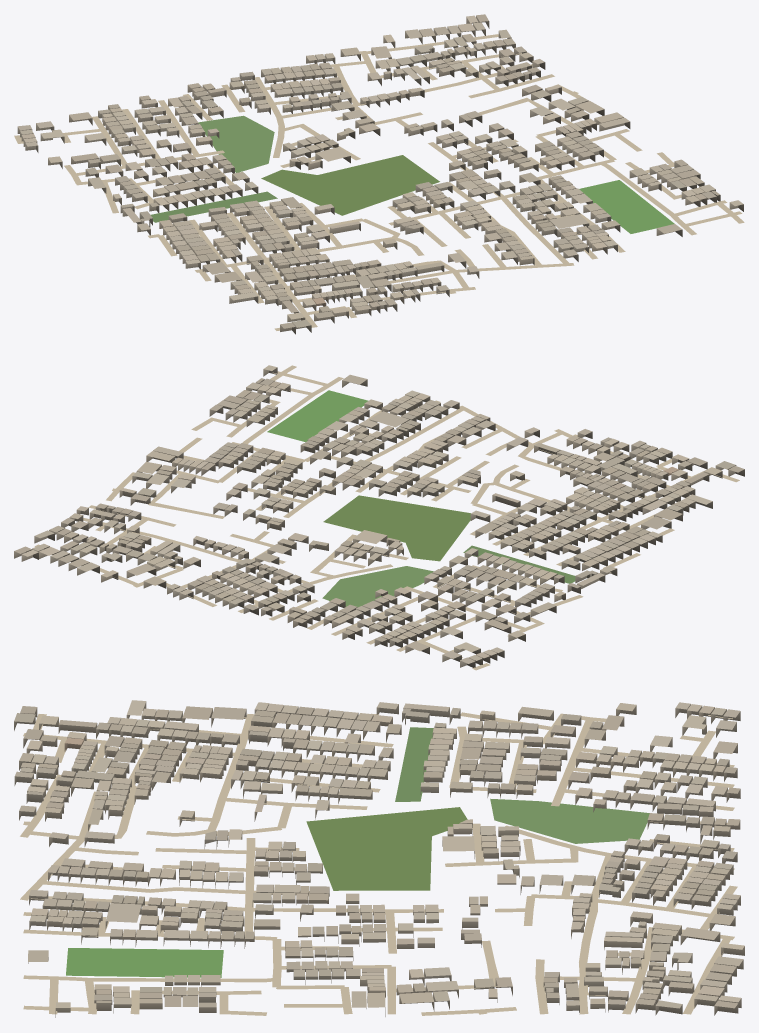
3 renders of one model, top to bottom at view 1: azimuth 30°, elevation 25°; view 2: azimuth 150°, elevation 25°; view 3: azimuth 270°, elevation 25°, orthographic. The views are drawn at different scales.
Parts seen in each view (by area): view 1: building, ground; view 2: building, ground; view 3: building, ground.
Part boxes in pixels (<box>): building: <box>17,14,743,334</box>; ground: <box>14,34,744,330</box>; building: <box>14,365,744,667</box>; ground: <box>34,365,739,670</box>; building: <box>14,700,744,1017</box>; ground: <box>20,712,737,1015</box>.
Bounding box in the file's own units: 514 × 8 × 515.
